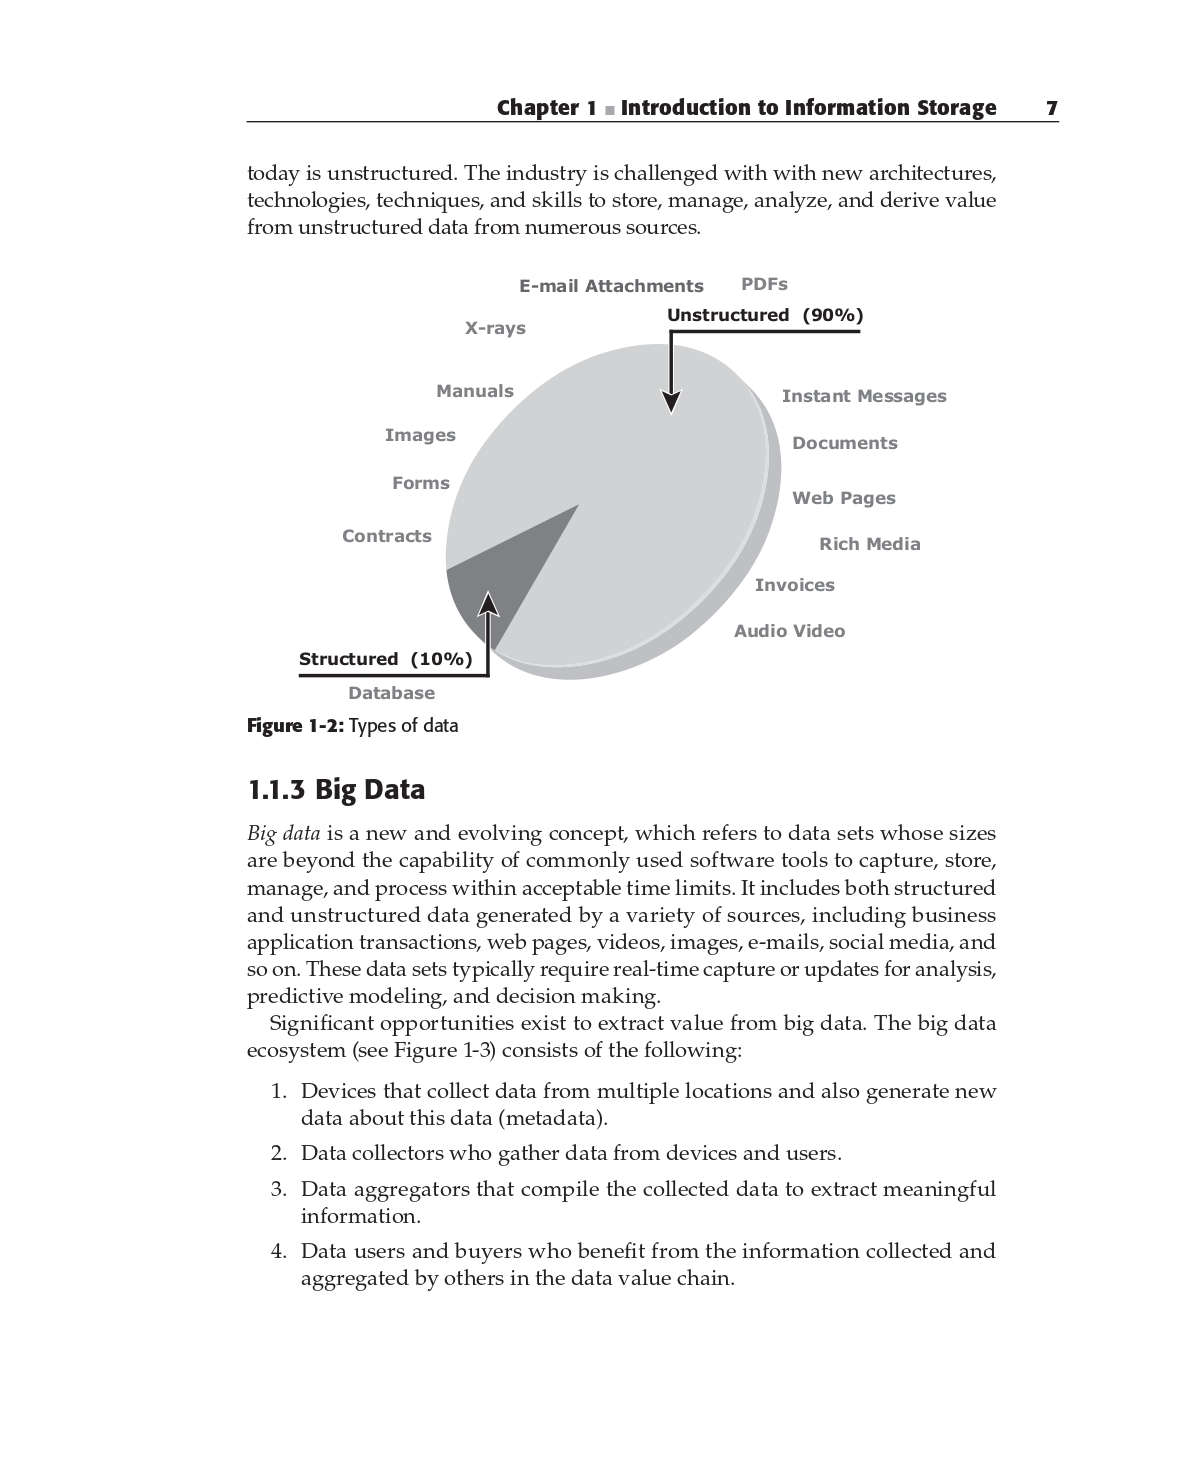Image: (298, 257, 902, 704)
Paragraph: (234, 827, 1007, 1005), (225, 164, 1013, 240), (286, 1071, 996, 1136), (242, 1007, 1001, 1063), (292, 1235, 1019, 1291), (290, 1179, 1005, 1221), (473, 85, 1001, 122), (295, 1142, 856, 1171), (234, 698, 476, 742), (242, 765, 433, 812)
